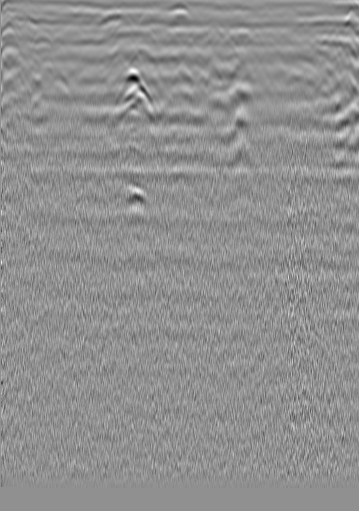가스: (120, 180, 153, 214)
상수: (297, 21, 317, 41)
오수: (32, 28, 52, 48)
우수: (175, 23, 195, 43)
